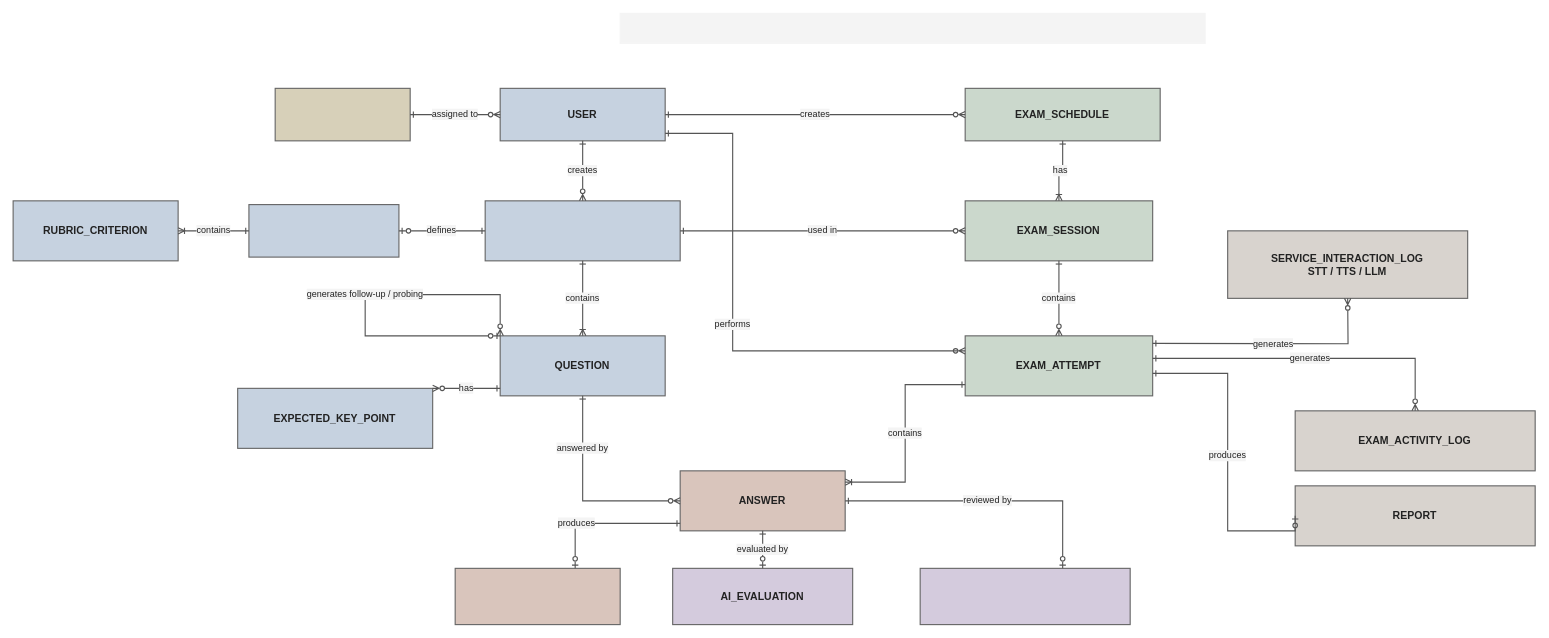
This 1549x638 diagram has some shape labels left out. The shapes that lost their labels are listed below. From the top down, each one's centre as x and y in pixels, then its label:
At point 912,28: "CONCEPTUAL ERD — AI-POWERED VIVA EXAM SYSTEM".
At point 342,114: "ROLE".
At point 323,230: "RUBRIC".
At point 582,230: "QUESTION_BANK".
At point 537,596: "TRANSCRIPT".
At point 1024,596: "LECTURER_EVALUATION".
